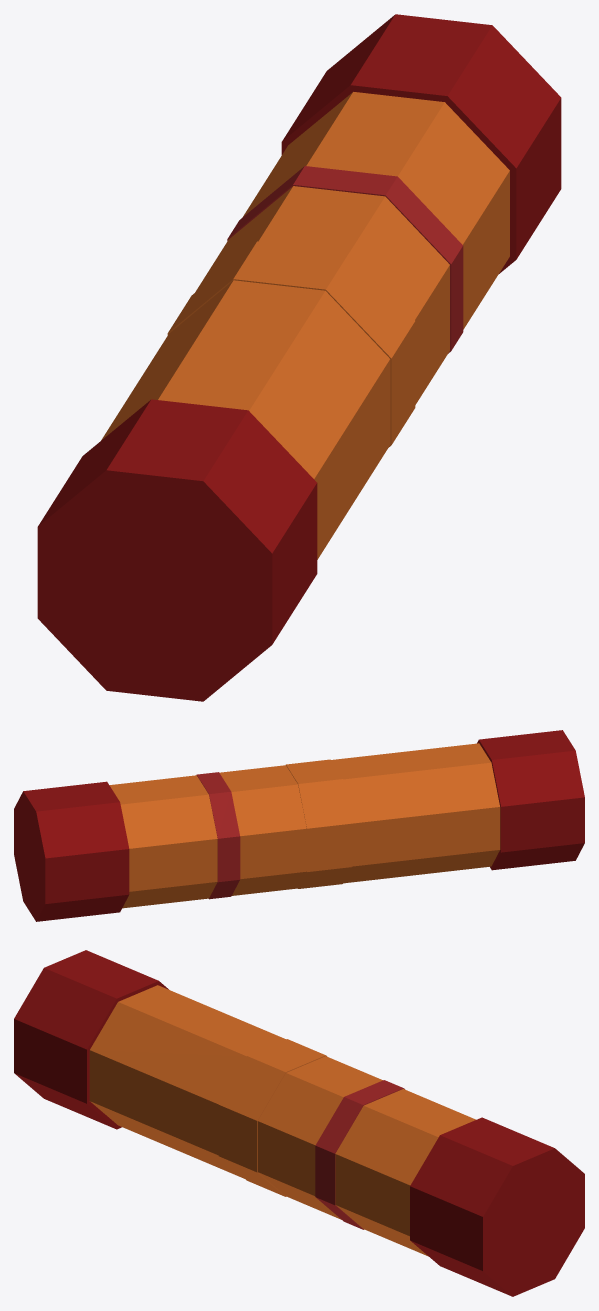
The model's file is ce_ammo2_m74_inc_a.obj.
3 renders of one model, top to bottom at view 1: azimuth 30°, elevation 25°; view 2: azimuth 150°, elevation 25°; view 3: azimuth 270°, elevation 25°, orthographic. The views are drawn at different scales.
Parts seen in each view (by area): view 1: ce_ammo2_m74_inc_a_0, ce_ammo2_m74_inc_a_1, ce_ammo2_m74_inc_a_6, ce_ammo2_m74_inc_a_5, ce_ammo2_m74_inc_a_3, ce_ammo2_m74_inc_a_2, ce_ammo2_m74_inc_a_4; view 2: ce_ammo2_m74_inc_a_1, ce_ammo2_m74_inc_a_6, ce_ammo2_m74_inc_a_0, ce_ammo2_m74_inc_a_5, ce_ammo2_m74_inc_a_3, ce_ammo2_m74_inc_a_2, ce_ammo2_m74_inc_a_4; view 3: ce_ammo2_m74_inc_a_6, ce_ammo2_m74_inc_a_1, ce_ammo2_m74_inc_a_0, ce_ammo2_m74_inc_a_5, ce_ammo2_m74_inc_a_3, ce_ammo2_m74_inc_a_2, ce_ammo2_m74_inc_a_4.
Boxes of the visible parts, x1,y1,x2,y2 form: ce_ammo2_m74_inc_a_0: (37, 399, 317, 701); ce_ammo2_m74_inc_a_1: (101, 280, 390, 559); ce_ammo2_m74_inc_a_6: (281, 14, 561, 273); ce_ammo2_m74_inc_a_5: (242, 92, 509, 329); ce_ammo2_m74_inc_a_3: (195, 186, 449, 404); ce_ammo2_m74_inc_a_2: (167, 241, 415, 447); ce_ammo2_m74_inc_a_4: (227, 166, 463, 353); ce_ammo2_m74_inc_a_1: (331, 743, 500, 883); ce_ammo2_m74_inc_a_6: (14, 781, 129, 921); ce_ammo2_m74_inc_a_0: (477, 730, 584, 870); ce_ammo2_m74_inc_a_5: (109, 775, 217, 908); ce_ammo2_m74_inc_a_3: (219, 765, 306, 895); ce_ammo2_m74_inc_a_2: (286, 759, 351, 888); ce_ammo2_m74_inc_a_4: (196, 772, 240, 899); ce_ammo2_m74_inc_a_6: (410, 1117, 584, 1296); ce_ammo2_m74_inc_a_1: (89, 985, 285, 1178); ce_ammo2_m74_inc_a_0: (14, 950, 168, 1129); ce_ammo2_m74_inc_a_5: (335, 1089, 475, 1256); ce_ammo2_m74_inc_a_3: (258, 1056, 382, 1219); ce_ammo2_m74_inc_a_2: (218, 1039, 326, 1196); ce_ammo2_m74_inc_a_4: (315, 1080, 404, 1229).
Bounding box in the file's own units: 0.3874 × 0.098 × 0.3874.
